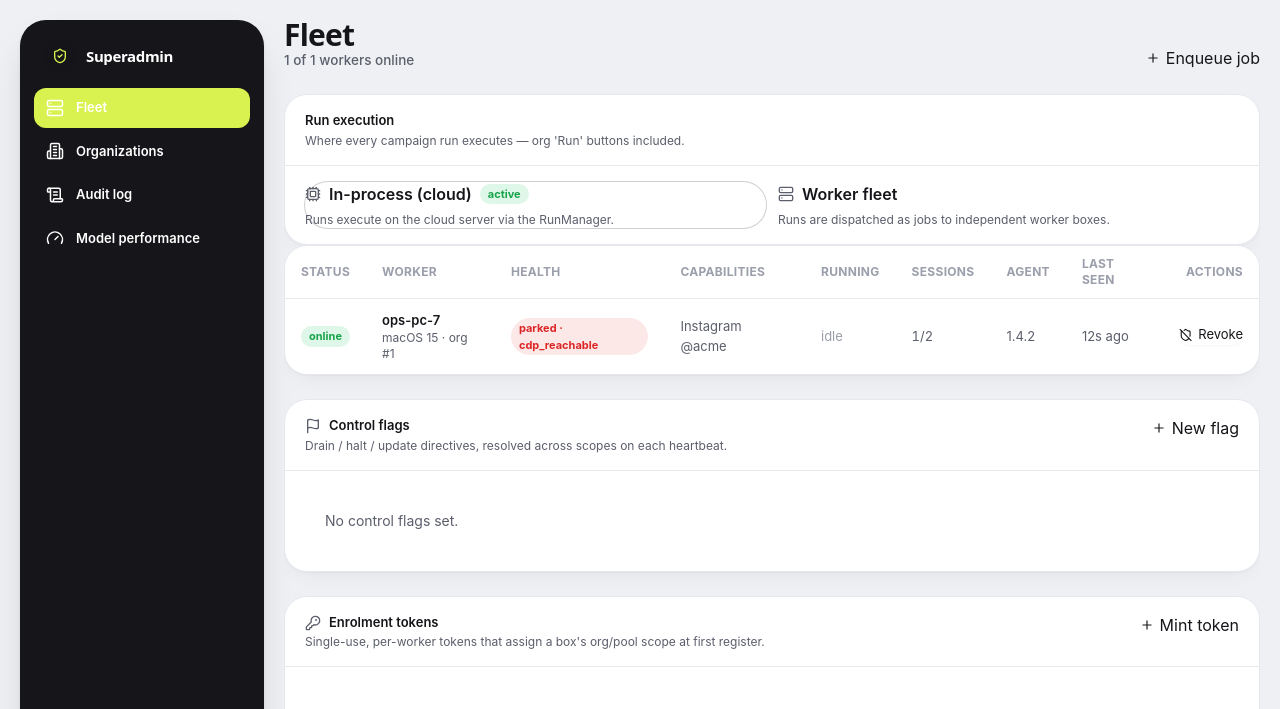
fleet actions › worker-authored detail is rendered as text, never as markup
This screenshot has width=1280, height=709.
Expected: the text "ops-pc-7" is shown, [382,312,440,328]
Click the button "parked · cdp_reachable" at (580, 336), box [511,318,648,355]
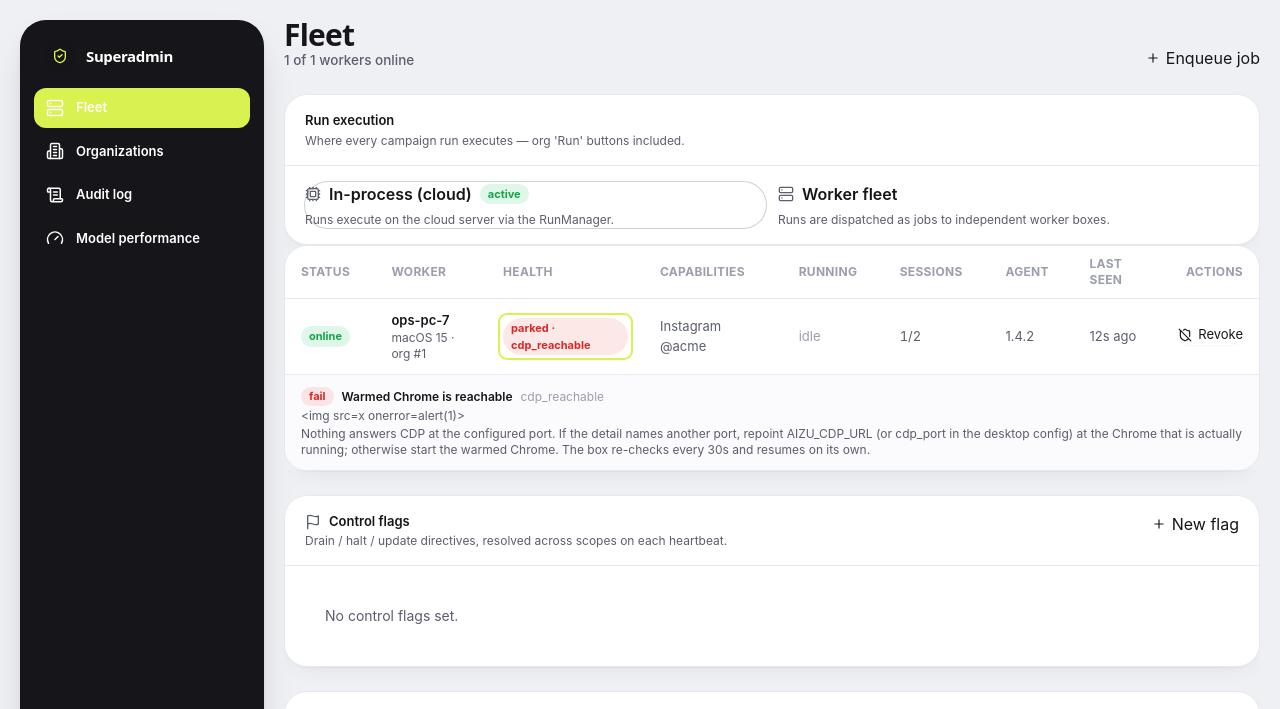
Result: the text "<img src=x onerror=alert(1)>" is shown at [301,408,465,423]
